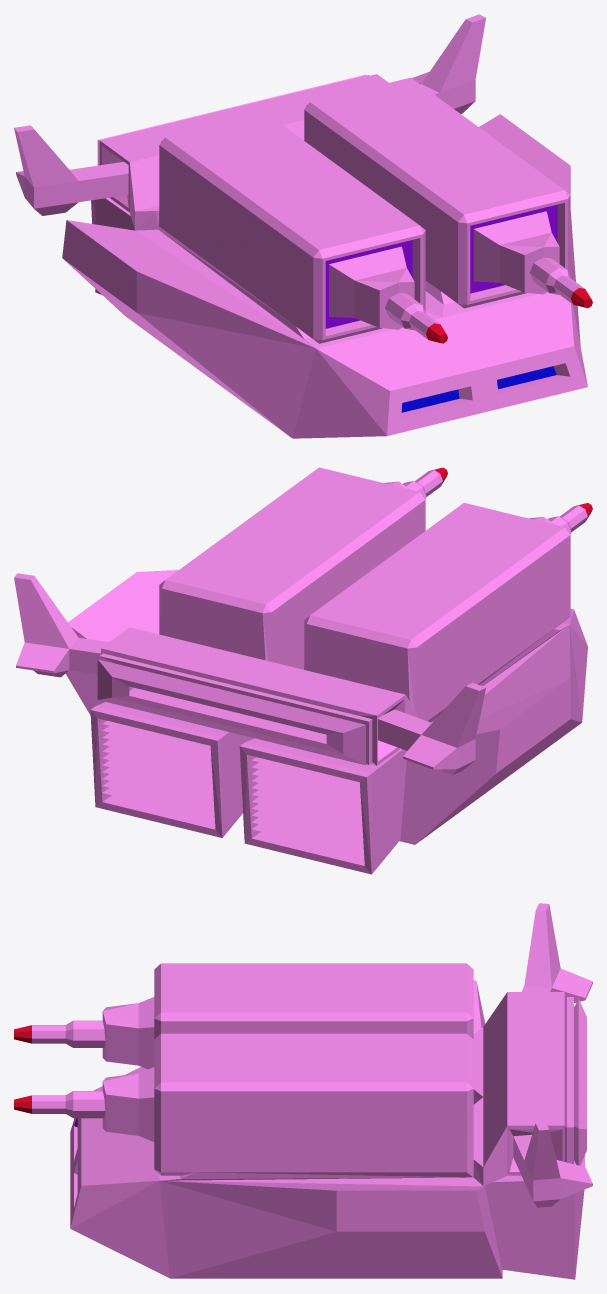
File: Robot_Head_Raser.fbx
3 renders of one model, top to bottom at view 1: azimuth 30°, elevation 25°; view 2: azimuth 150°, elevation 25°; view 3: azimuth 270°, elevation 25°, orthographic.
Parts seen in each view (by area): view 1: body.003; view 2: body.003; view 3: body.003.
Boxes of the visible parts, x1,y1,x2,y2 form: body.003: (14,14,592,438); body.003: (14,467,592,874); body.003: (14,903,592,1279).
Size of the model in its own units: 1.84 by 0.7378 by 1.98.
